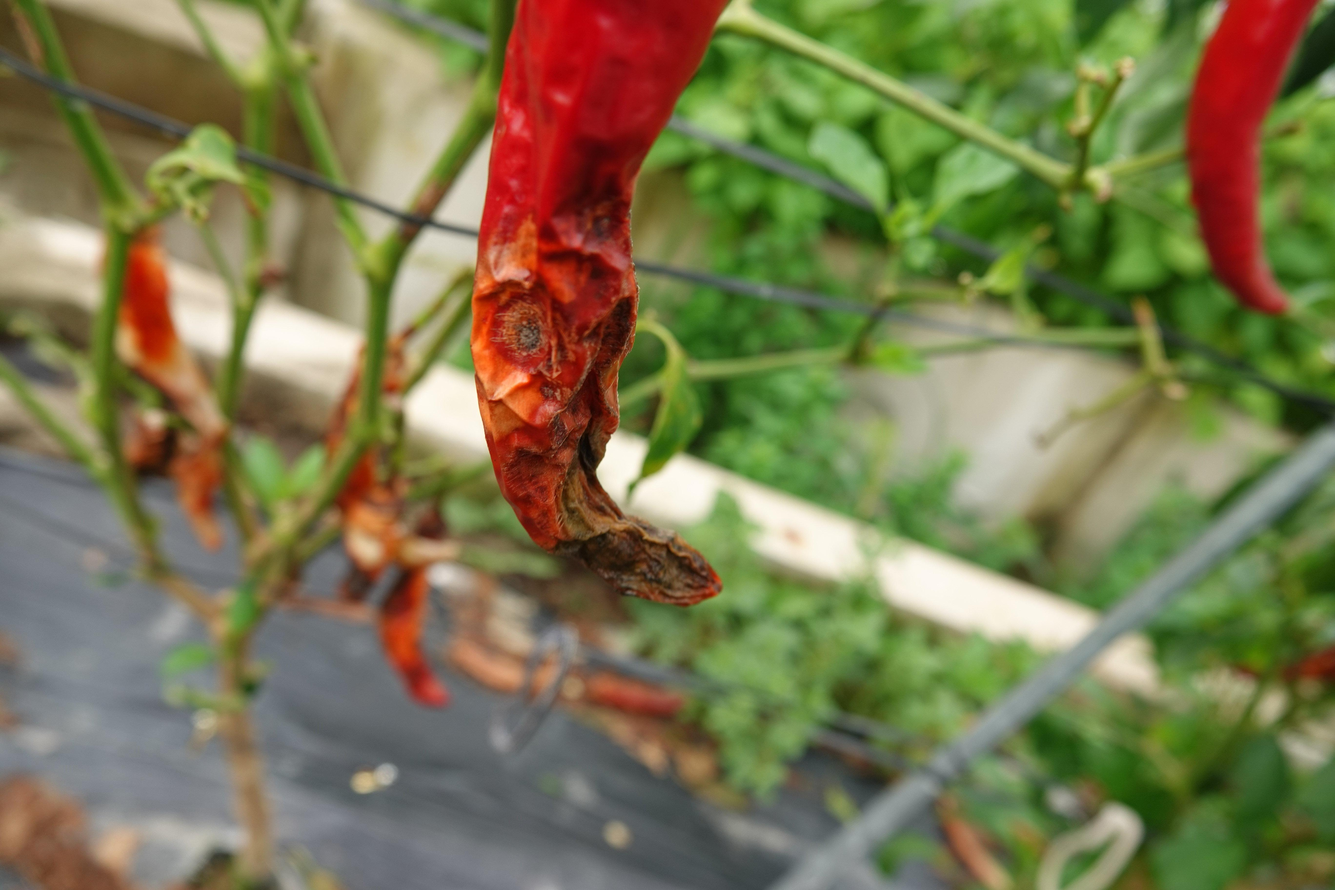Busuk Buah Antraknosa: (466, 1, 732, 609)
